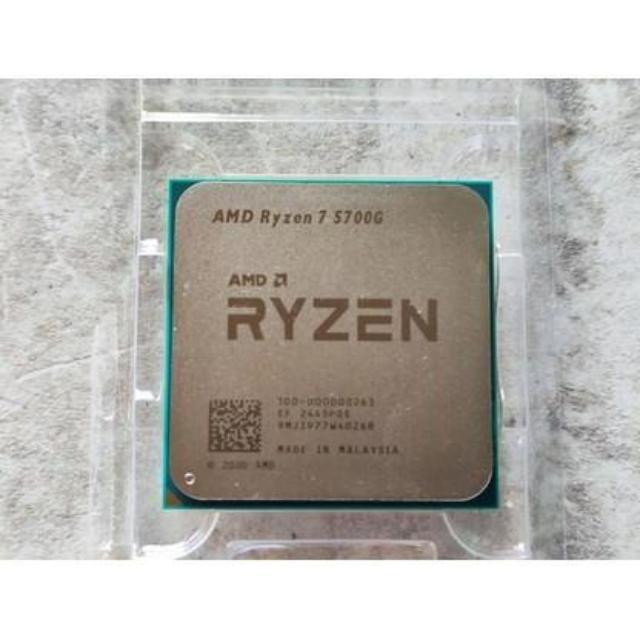CPU: (168, 181, 497, 510)
